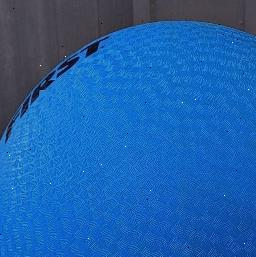algae: (0, 22, 256, 257)
